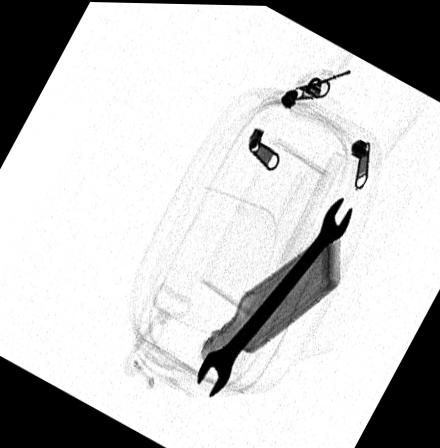Wrench: (194, 192, 354, 399)
